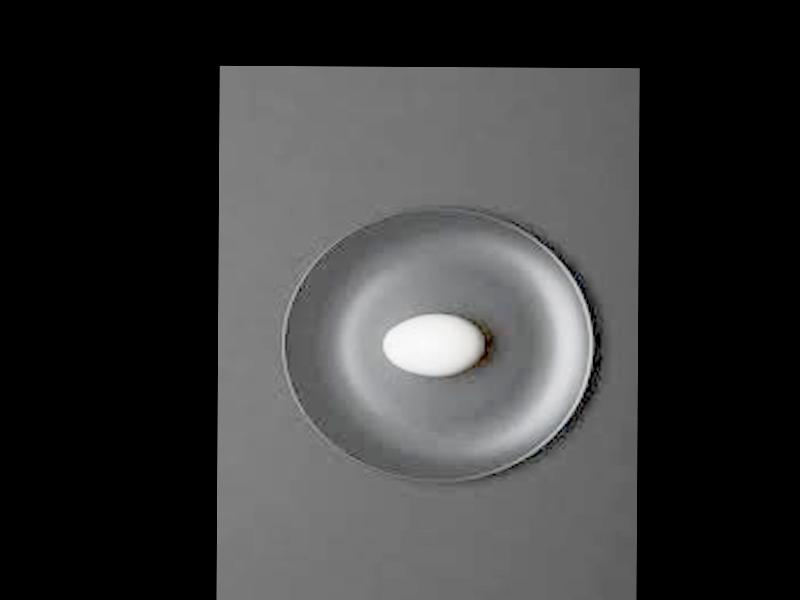Eggs: (383, 313, 482, 377)
